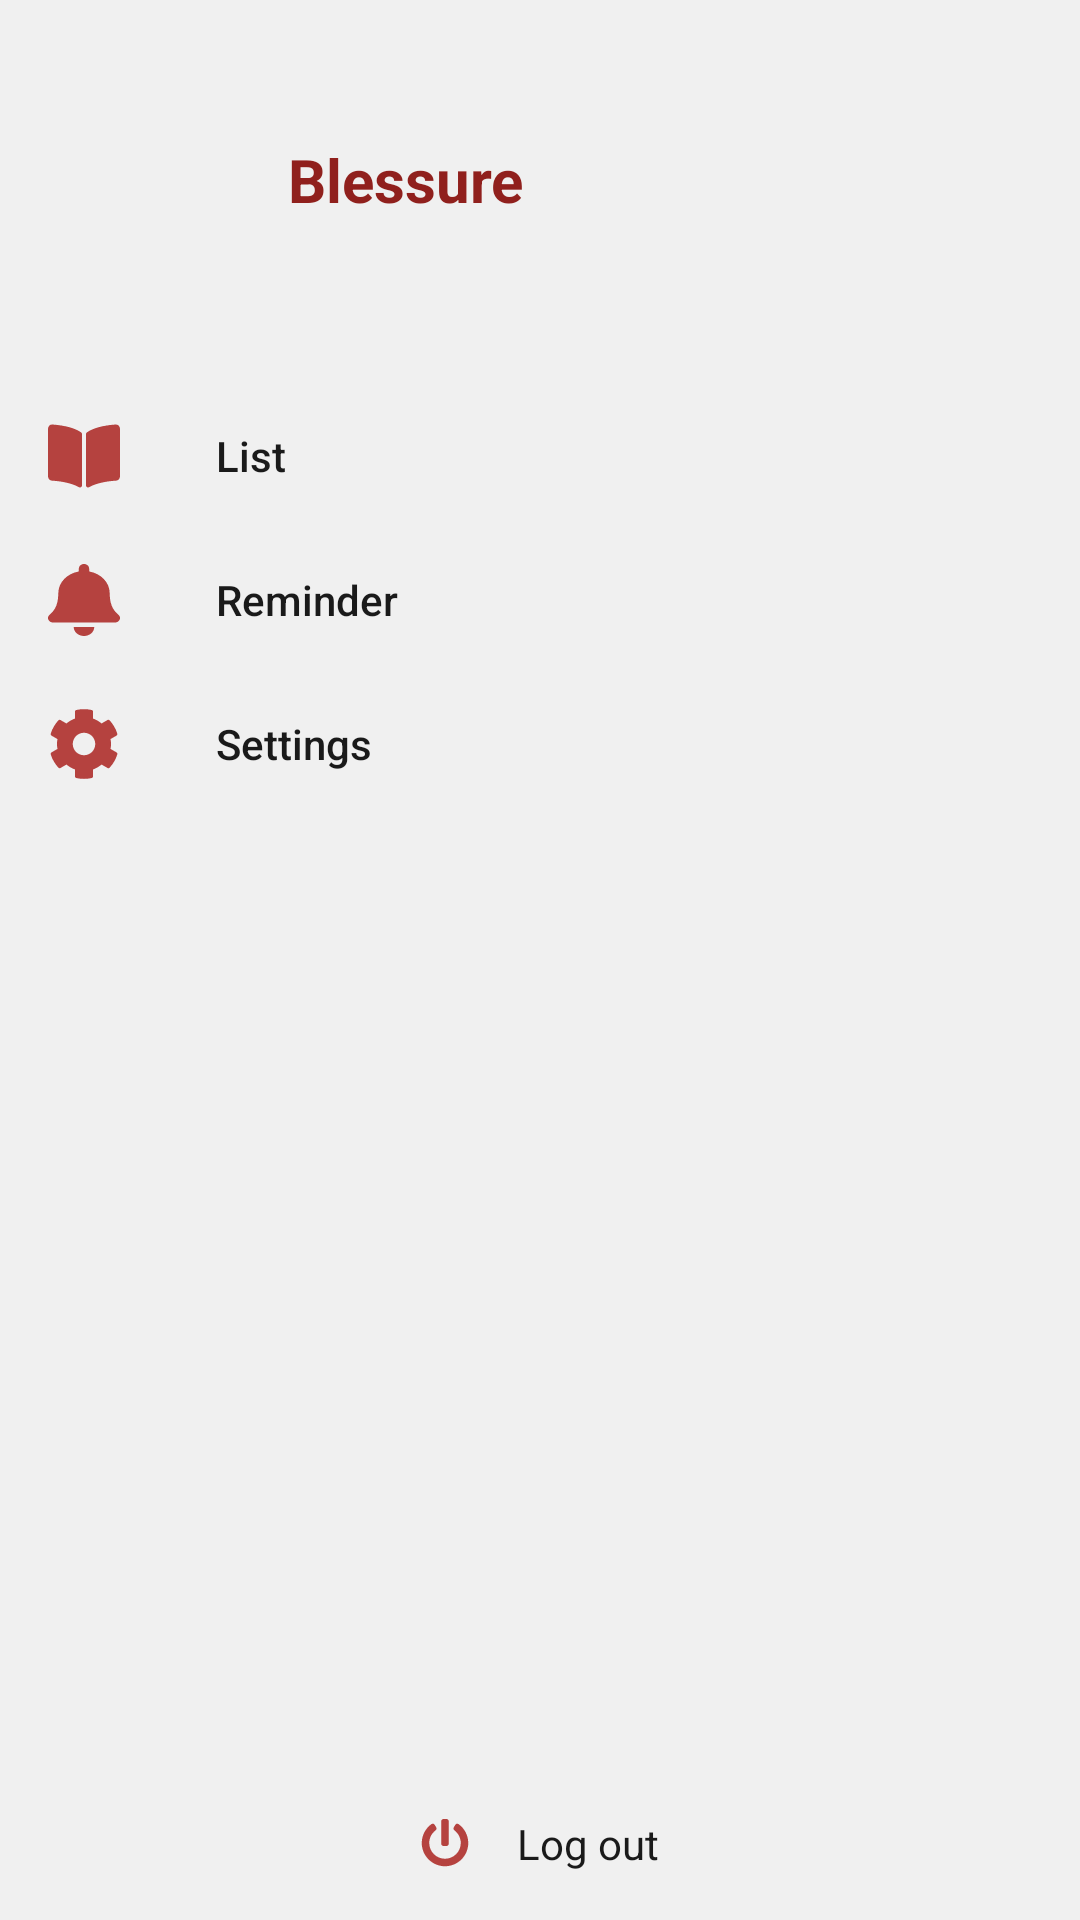

Icons on this 1080*1920 Android screen, each with its box as bbox=[x1, y1, x2, y2]:
power off: bbox=[421, 1819, 469, 1867]
